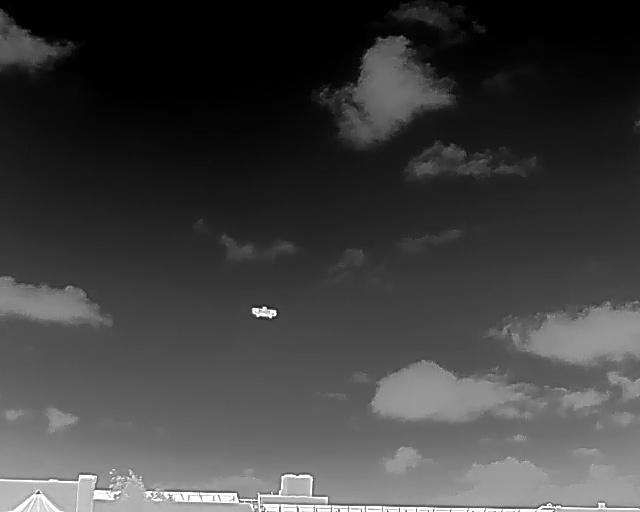fpv-drone: (251, 306, 277, 318)
